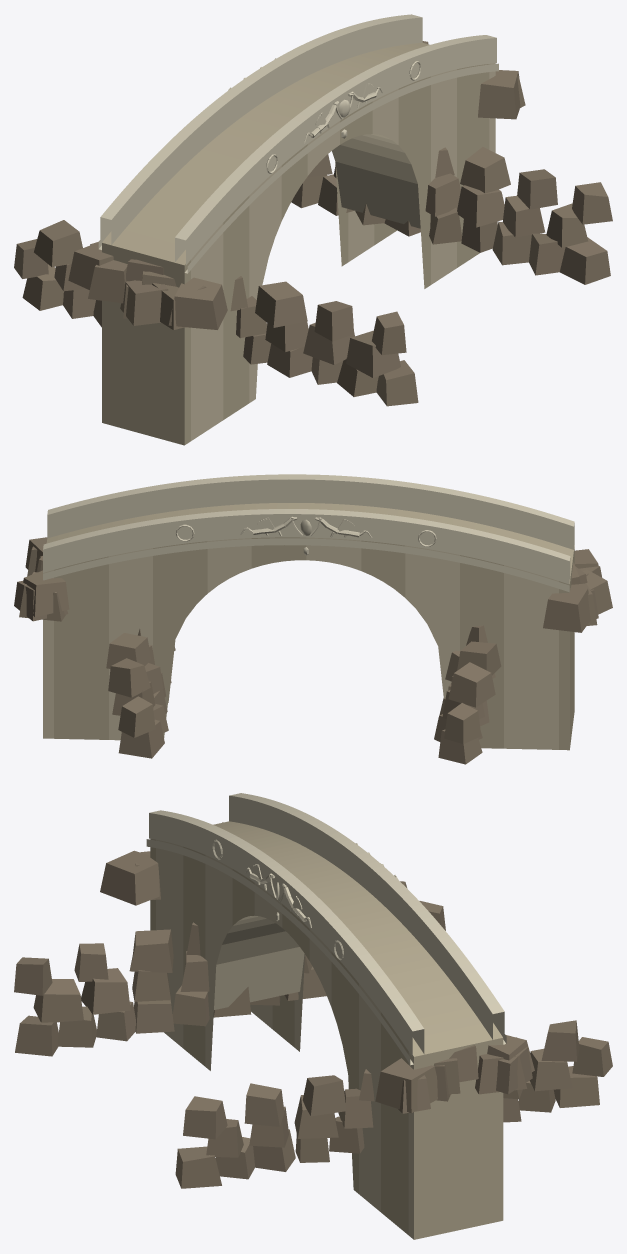
The model's file is drakon_most.glb.
3 renders of one model, top to bottom at view 1: azimuth 30°, elevation 25°; view 2: azimuth 150°, elevation 25°; view 3: azimuth 270°, elevation 25°, orthographic. The views are drawn at different scales.
Visible parts, largest first — view 1: drakon_most_stone, drakon_most_wall2, drakon_most_trim, drakon_most_wall, drakon_most_trim_s; view 2: drakon_most_trim, drakon_most_wall2, drakon_most_wall, drakon_most_stone, drakon_most_trim_s; view 3: drakon_most_stone, drakon_most_wall2, drakon_most_trim, drakon_most_wall, drakon_most_trim_s.
Boxes of the visible parts, <box> form: drakon_most_stone: <box>14,41,612,406</box>; drakon_most_wall2: <box>102,42,489,445</box>; drakon_most_trim: <box>98,14,498,273</box>; drakon_most_wall: <box>191,63,495,440</box>; drakon_most_trim_s: <box>228,58,420,173</box>; drakon_most_trim: <box>43,474,574,592</box>; drakon_most_wall2: <box>46,503,574,750</box>; drakon_most_wall: <box>43,537,558,749</box>; drakon_most_stone: <box>14,537,612,764</box>; drakon_most_trim_s: <box>176,516,436,555</box>; drakon_most_stone: <box>14,822,612,1188</box>; drakon_most_wall2: <box>150,821,503,1239</box>; drakon_most_trim: <box>146,793,506,1065</box>; drakon_most_wall: <box>156,840,413,1239</box>; drakon_most_trim_s: <box>212,839,398,960</box>.
Size of the model in its own units: 18.57 by 8.4 by 17.95.
